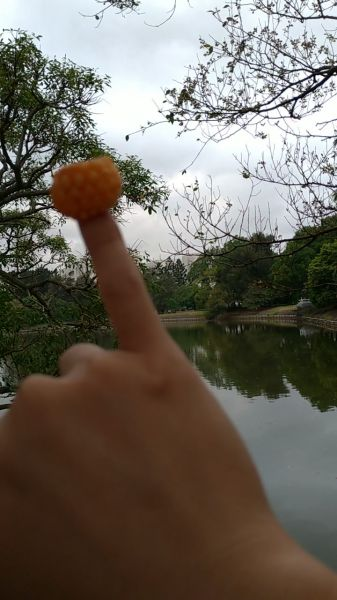eggs: (50, 160, 125, 218)
